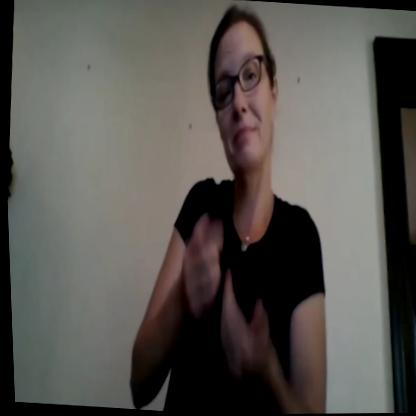HowAreYou: (162, 205, 288, 401)
